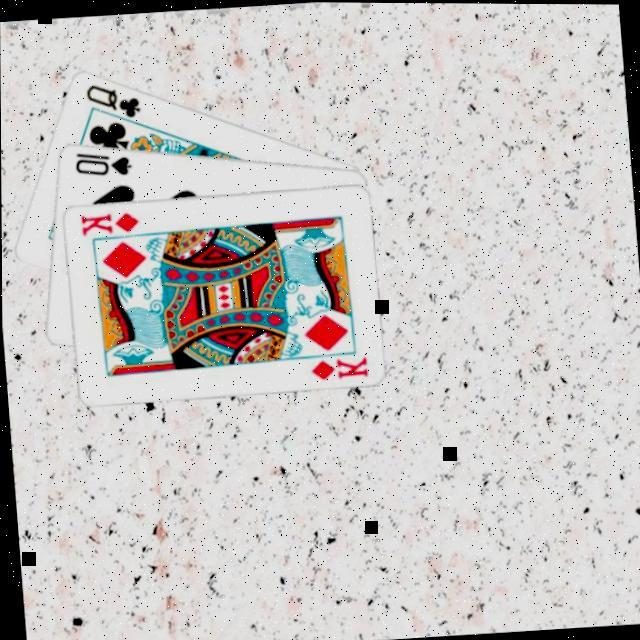10S: (68, 147, 134, 182)
KD: (76, 209, 142, 239), (305, 354, 369, 384)
QC: (80, 78, 142, 124)
